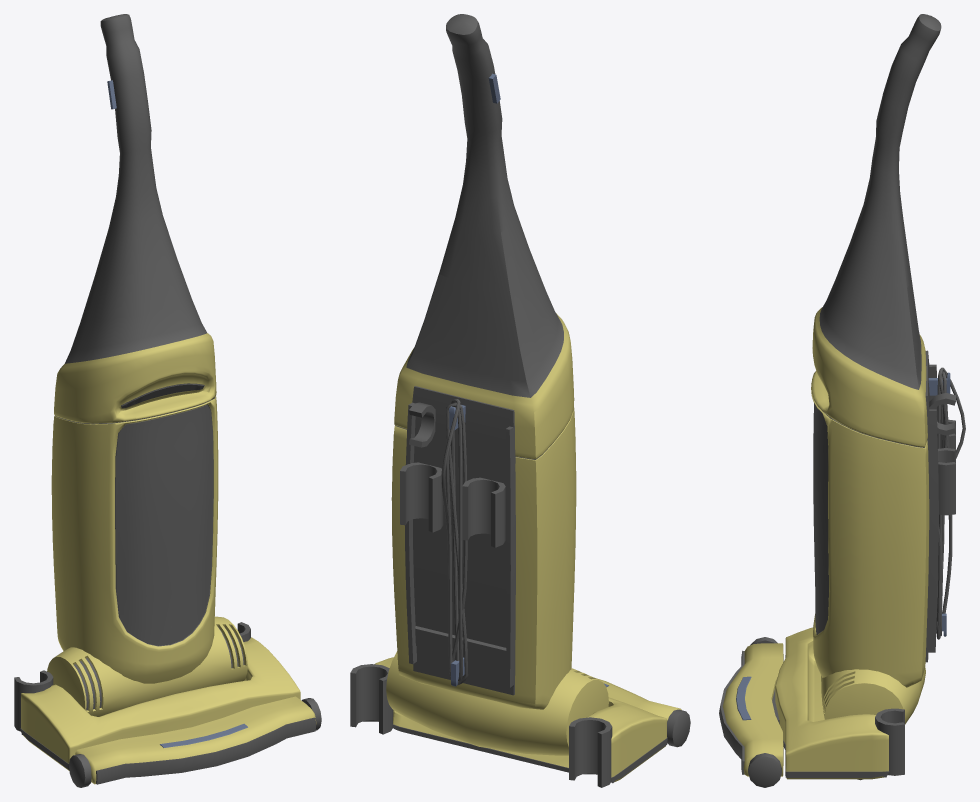
File: Vacuums.fbx
3 views of the same model, side by side, from view 1: azimuth 30°, elevation 25°; view 2: azimuth 150°, elevation 25°; view 3: azimuth 270°, elevation 25° (orthographic). The views are drawn at different scales.
Parts seen in each view (by area): view 1: Handle, Vacuum3, GlassCover; view 2: Handle, Vacuum3, Cord3; view 3: Handle, Vacuum3, GlassCover, Cord3.
Boxes of the visible parts, box(x1,y1,x2,y2) form: Handle: box(47, 14, 321, 787); Vacuum3: box(14, 622, 316, 784); GlassCover: box(115, 404, 213, 645); Handle: box(386, 14, 690, 755); Vacuum3: box(350, 657, 681, 787); Cord3: box(441, 399, 468, 685); Handle: box(748, 14, 955, 787); Vacuum3: box(719, 627, 904, 779); GlassCover: box(813, 403, 828, 634); Cord3: box(936, 367, 965, 639).
Bounding box in the file's own units: 0.4747 × 1.3 × 0.4099.
